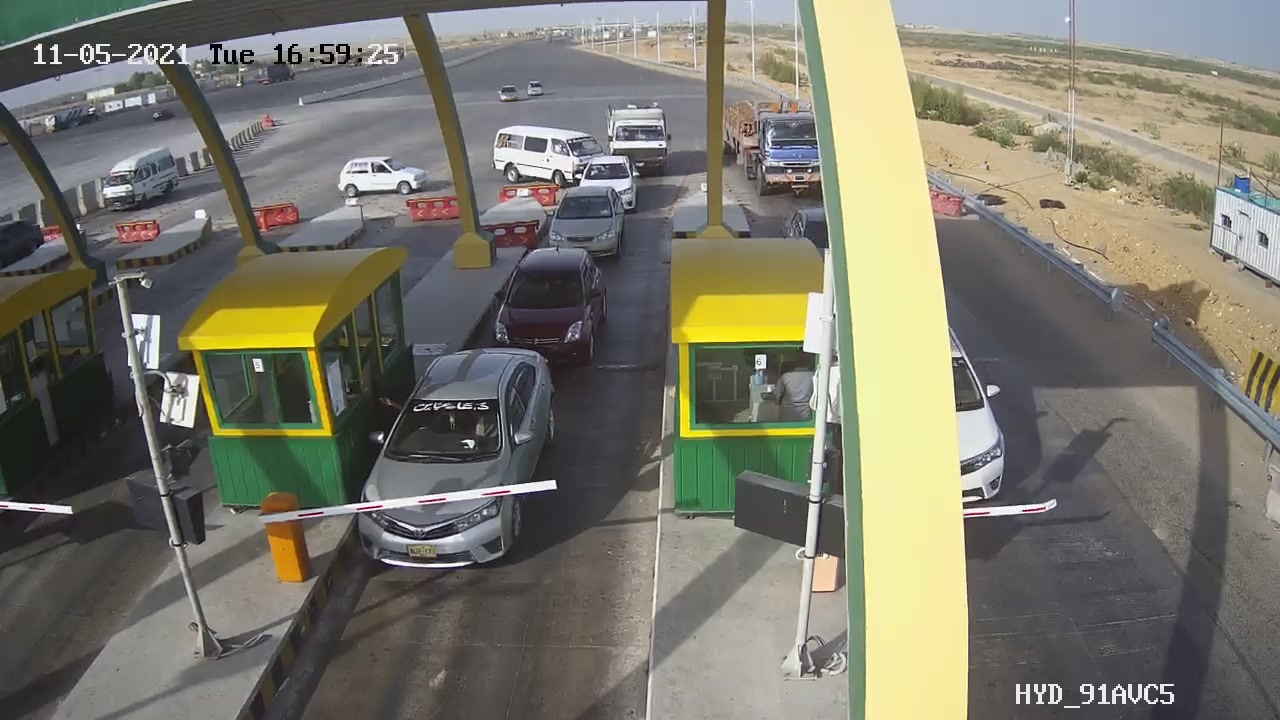F1: (342, 331, 574, 585), (476, 231, 624, 380), (536, 180, 641, 272)
